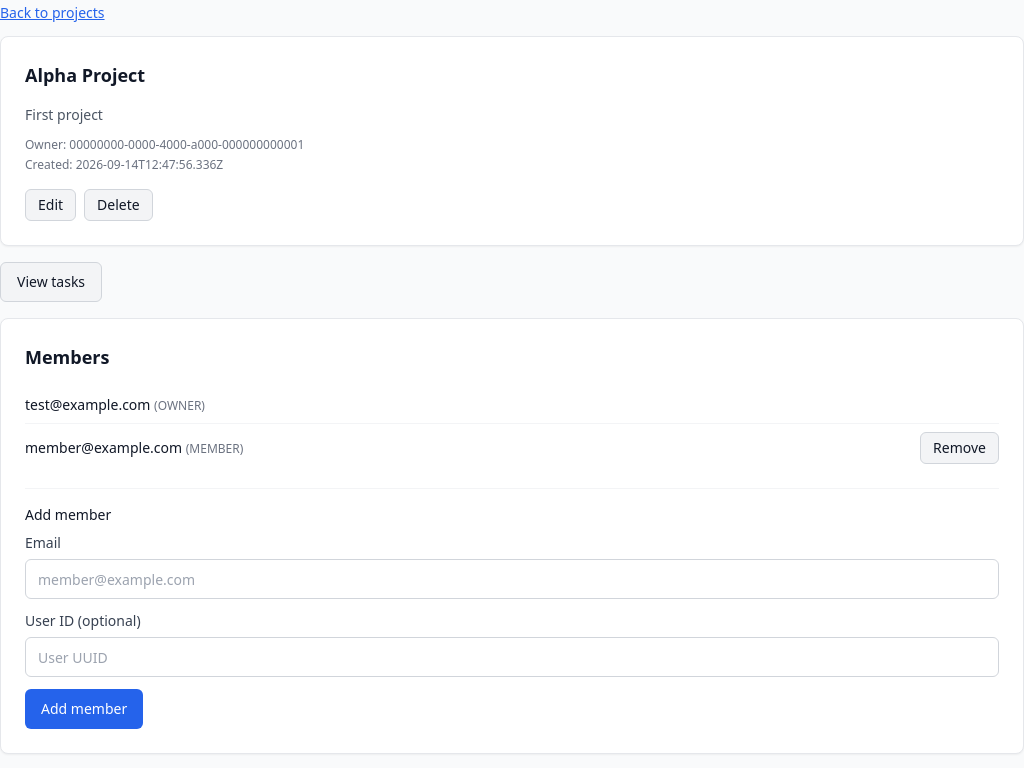
it: Members section on project details (behavior) › add shows client validation when neither email nor user ID given (behavior)
expect the text "member@example.com" is shown: met, box x1=25 y1=438 x2=182 y2=457
Step 1. Click the button "Add member" → click(84, 709), box x1=25 y1=689 x2=143 y2=729
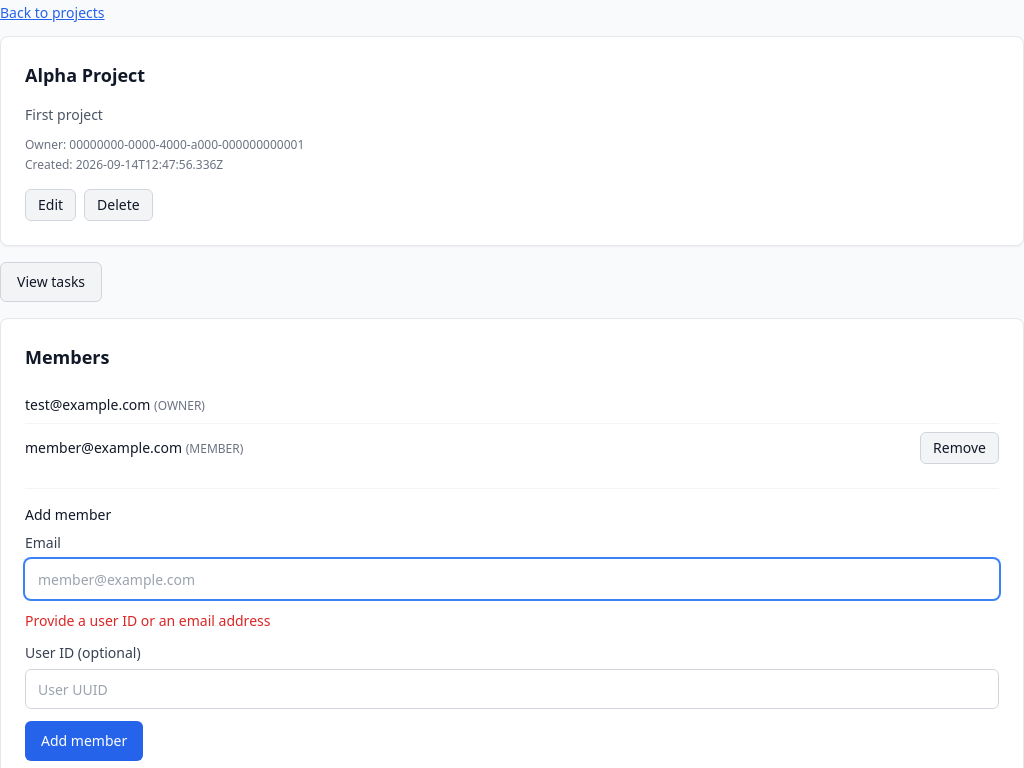
expect the text "Provide a user ID or an email address" is shown: met, box x1=25 y1=611 x2=270 y2=630
